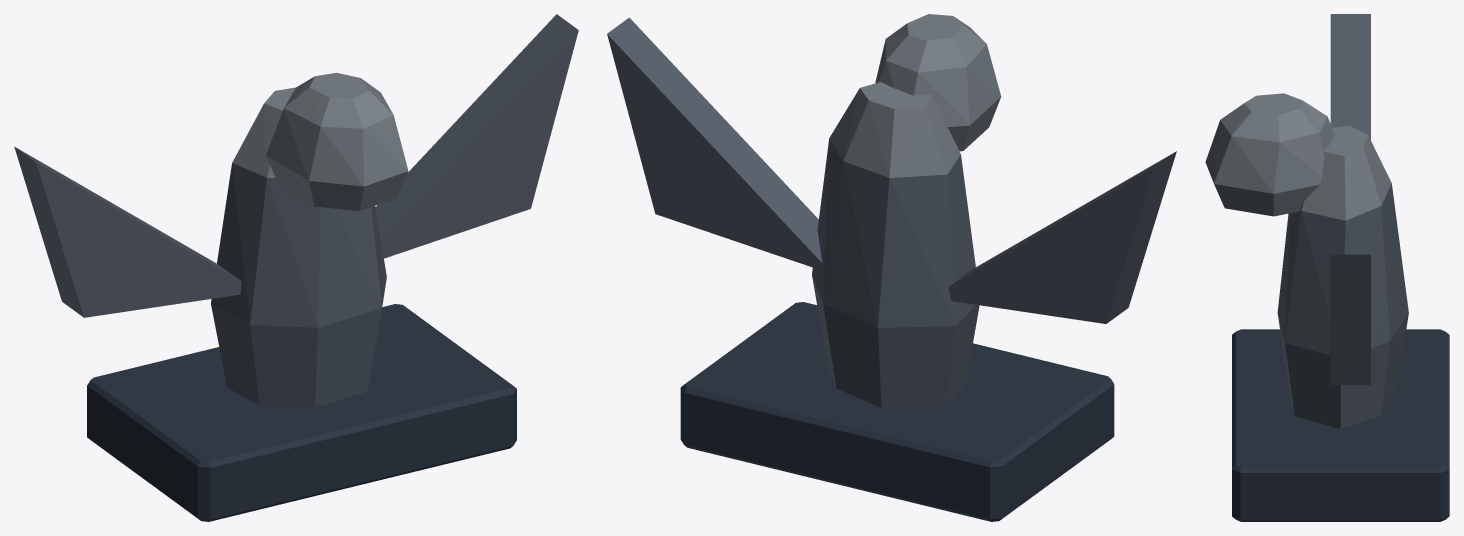
File: gargoyle.glb
3 renders of one model, left to right at view 1: azimuth 30°, elevation 25°; view 2: azimuth 150°, elevation 25°; view 3: azimuth 270°, elevation 25°, orthographic. The views are drawn at different scales.
Visible parts, largest first — view 1: gargoyle__body; view 2: gargoyle__body; view 3: gargoyle__body.
Part boxes in pixels (x1=…): gargoyle__body: x1=14, y1=14, x2=578, y2=521; gargoyle__body: x1=607, y1=14, x2=1176, y2=521; gargoyle__body: x1=1205, y1=14, x2=1449, y2=521.
Size of the model in its own units: 1.7 by 1.15 by 0.729.
